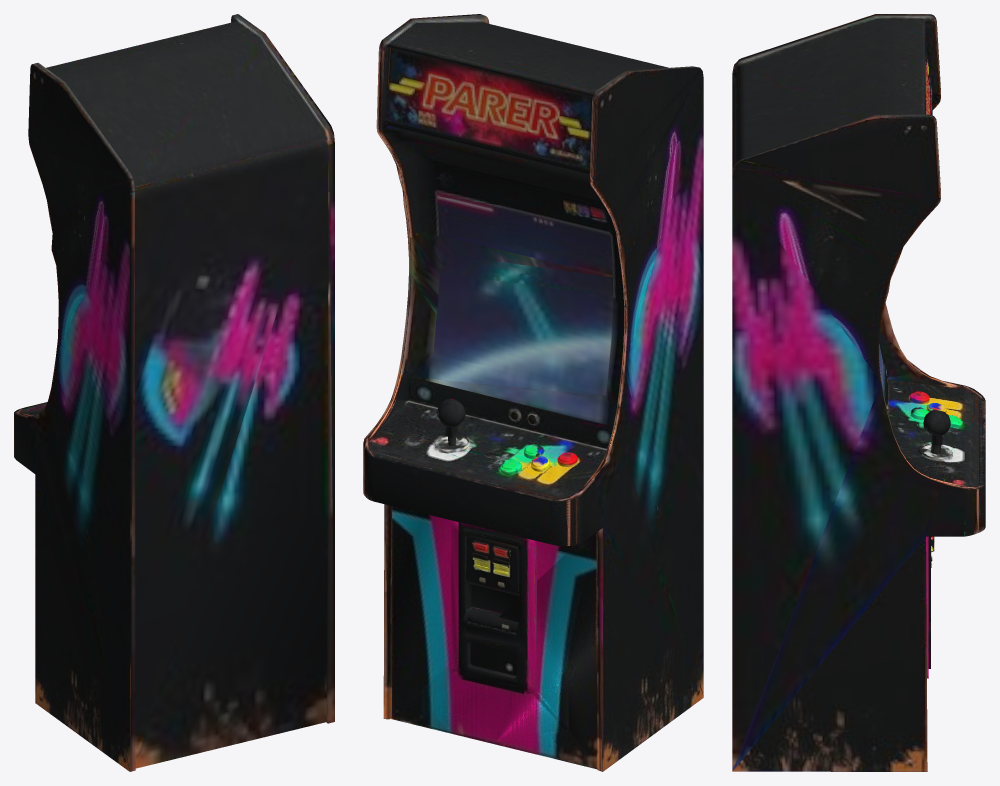
The model's file is office-arcade-cabinet.glb.
3 views of the same model, side by side, from view 1: azimuth 30°, elevation 25°; view 2: azimuth 150°, elevation 25°; view 3: azimuth 270°, elevation 25° (orthographic). The views are drawn at different scales.
Visible parts, largest first — view 1: arcade-cabinet; view 2: arcade-cabinet; view 3: arcade-cabinet.
Boxes of the visible parts, bbox=[...] form: arcade-cabinet: bbox=[14, 14, 334, 771]; arcade-cabinet: bbox=[363, 14, 703, 771]; arcade-cabinet: bbox=[732, 14, 985, 771].
Size of the model in its own units: 0.6095 by 1.8 by 0.628.
1 material, 1 textured.
